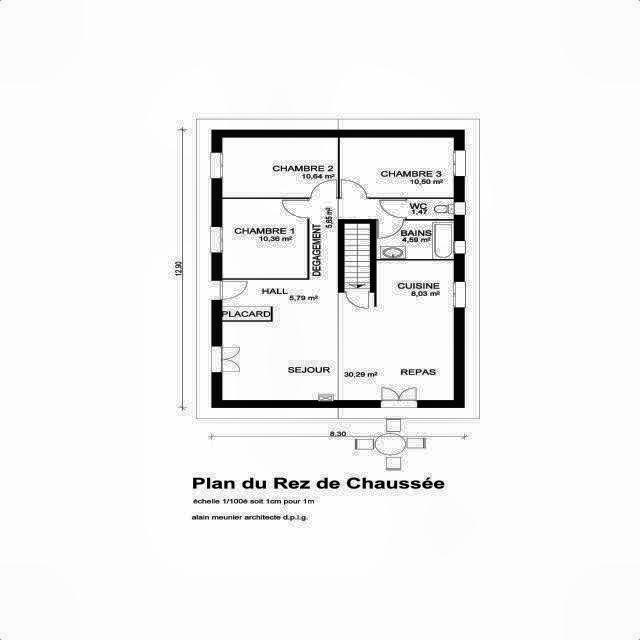room: (222, 199, 454, 400), (222, 137, 338, 197), (340, 138, 454, 198), (222, 199, 307, 278), (376, 221, 454, 259), (345, 224, 370, 291), (407, 199, 454, 219)
